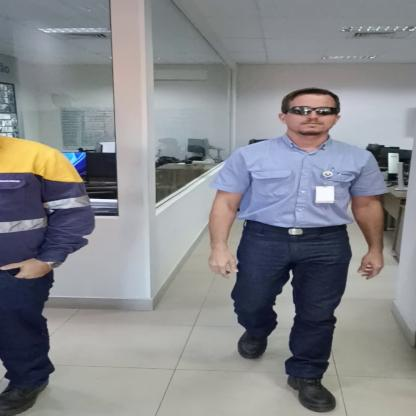Operacional: (0, 137, 95, 266)
